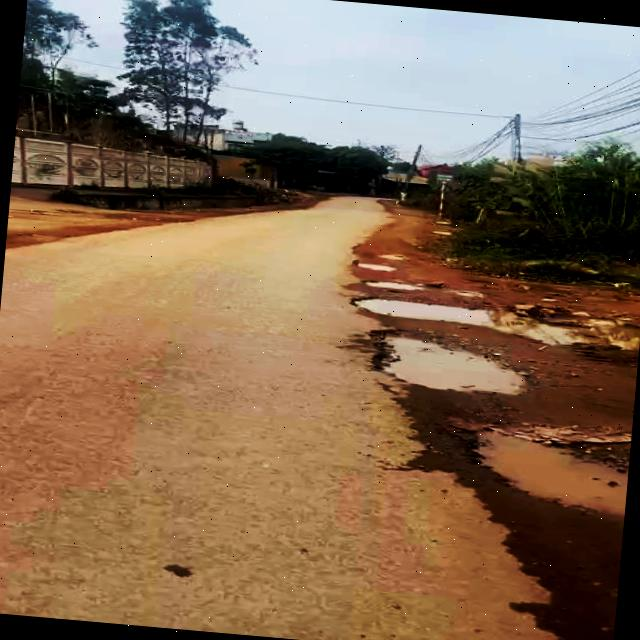pothole: (438, 405, 632, 519), (343, 282, 596, 355), (358, 324, 526, 402)
